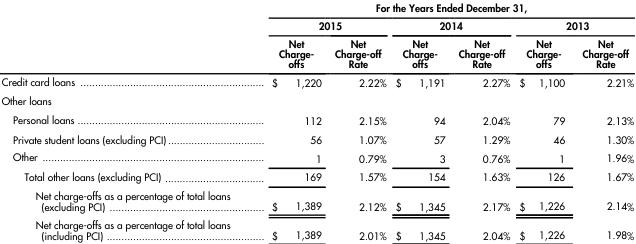table: (0, 0, 633, 241)
table column: (0, 0, 250, 241), (250, 0, 327, 241), (327, 0, 390, 241), (451, 0, 513, 241), (390, 0, 451, 241), (572, 0, 633, 241), (513, 0, 572, 241)
table column header: (0, 0, 633, 71)
table projected row header: (0, 90, 633, 109)
table row: (0, 33, 633, 71), (0, 186, 633, 215), (0, 215, 633, 241), (0, 109, 633, 129), (0, 147, 633, 167), (0, 71, 633, 90), (0, 90, 633, 109), (0, 167, 633, 186), (0, 129, 633, 147), (0, 16, 633, 33), (0, 0, 633, 16)
table spanning cell: (250, 0, 633, 16), (250, 16, 390, 33), (390, 16, 513, 33), (513, 16, 633, 33)
